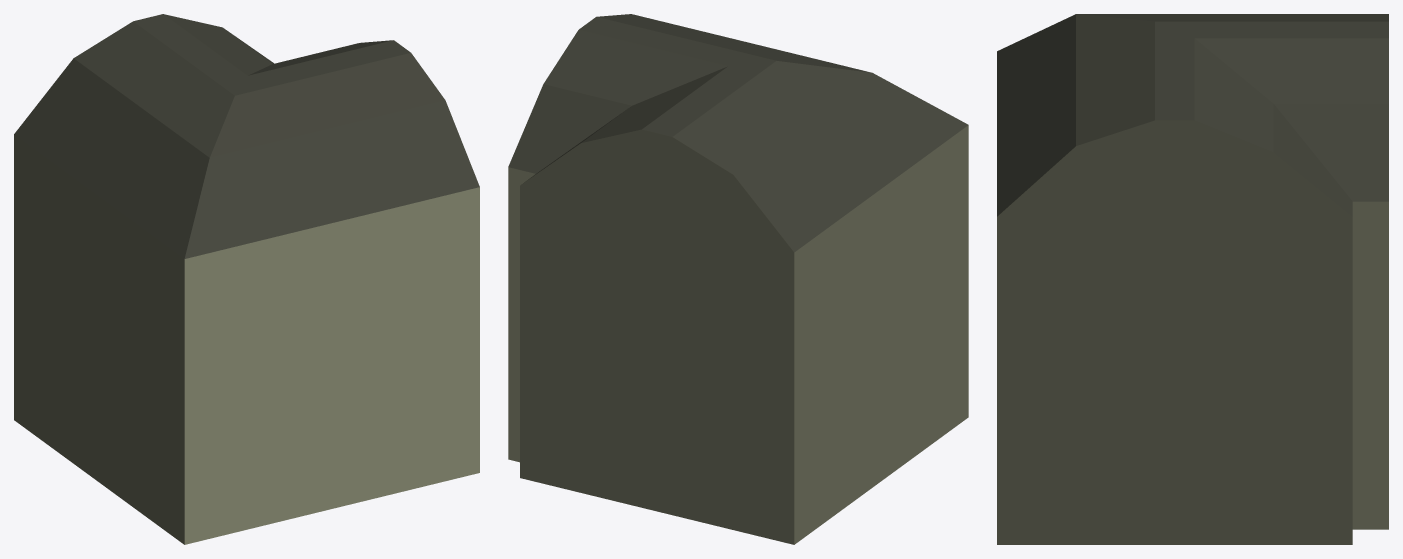
The model's file is Building_01_Corner.fbx.
The picture shows the model from 3 angles, left to right: view 1: azimuth 30°, elevation 25°; view 2: azimuth 150°, elevation 25°; view 3: azimuth 270°, elevation 25°; orthographic projection. The views are drawn at different scales.
Parts seen in each view (by area): view 1: Building_01_Corner; view 2: Building_01_Corner; view 3: Building_01_Corner.
Boxes of the visible parts, box(x1,y1,x2,y2) form: Building_01_Corner: box(14, 14, 479, 544); Building_01_Corner: box(508, 14, 968, 544); Building_01_Corner: box(997, 14, 1388, 544).
Size of the model in its own units: 95.24 by 114 by 95.24.
